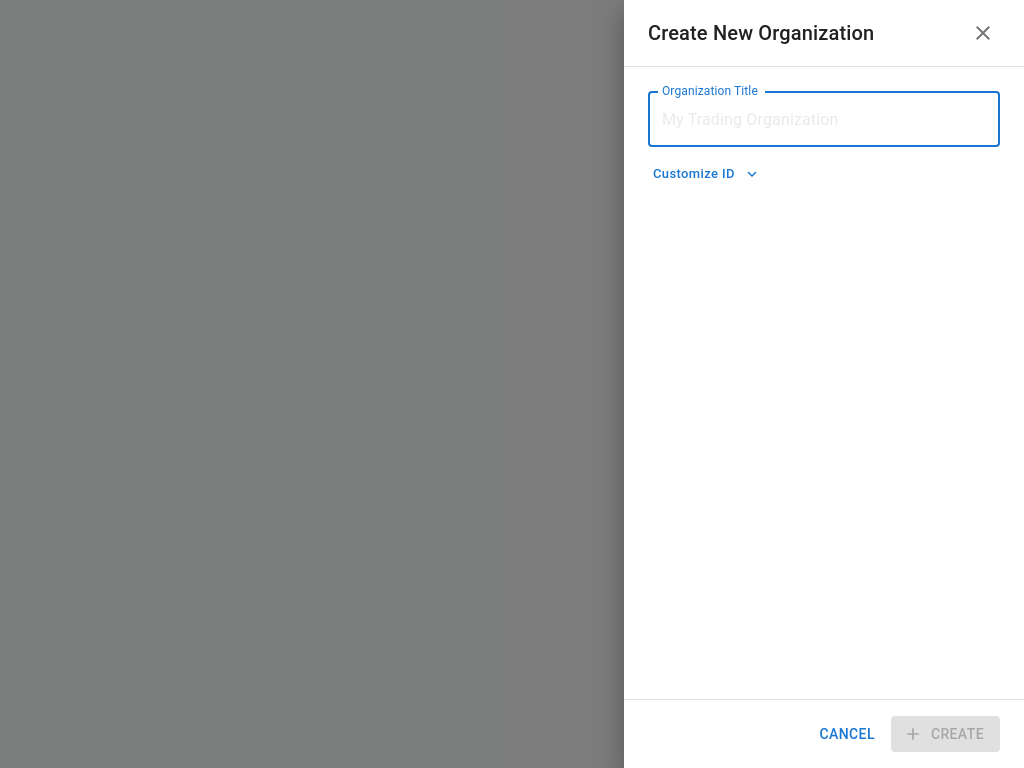
CreateOrganizationDrawer › custom ID › shows ID input when customize ID is clicked
Click the button "Customize ID" at (706, 174), box top-left (648, 159), bottom-right (764, 190)
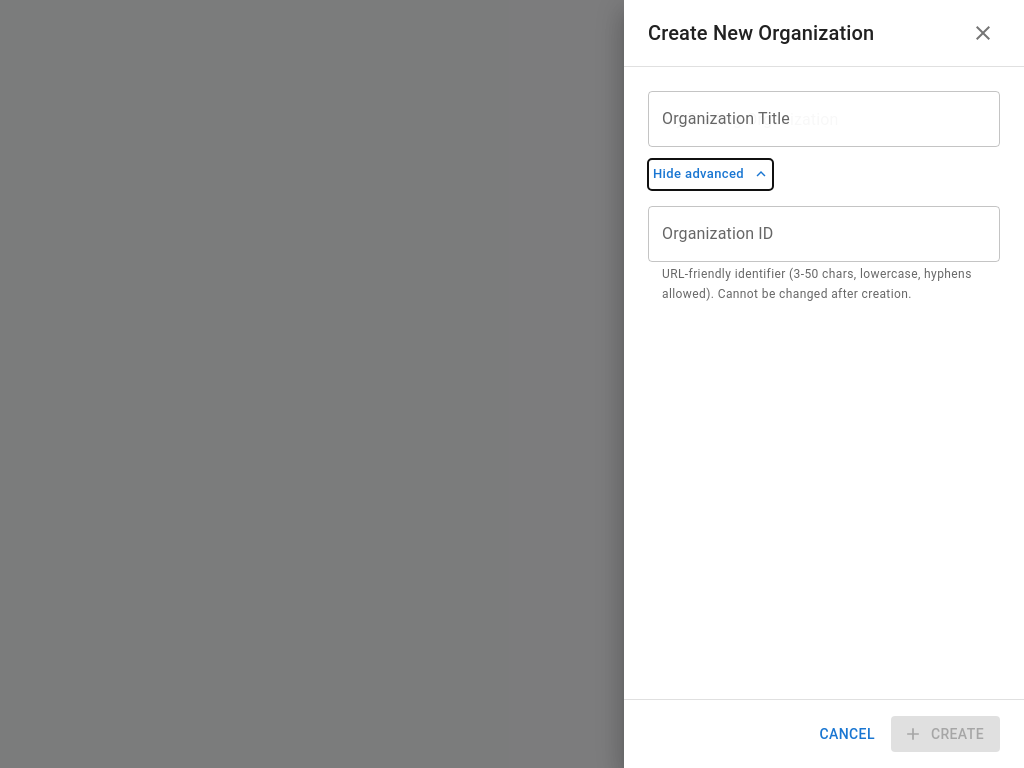
Now the field labelled "Organization ID" is shown, box top-left (648, 206), bottom-right (1000, 262)
